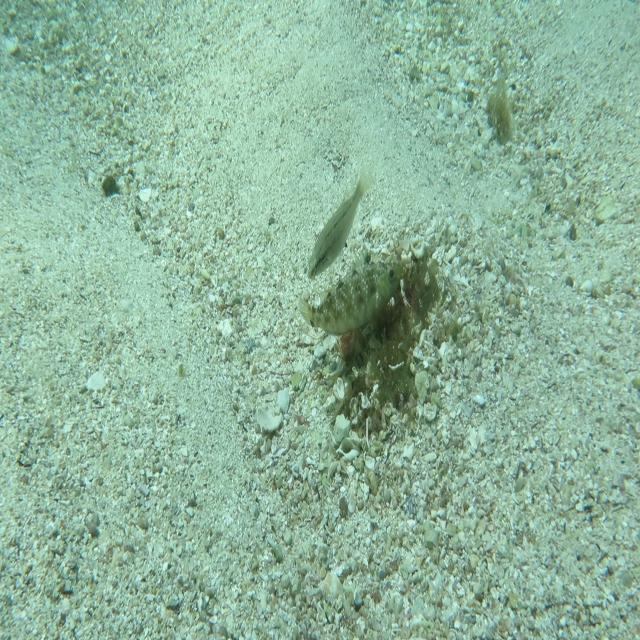BEND: (297, 244, 405, 337)
female: (307, 157, 377, 282)
nest: (325, 229, 460, 448)
